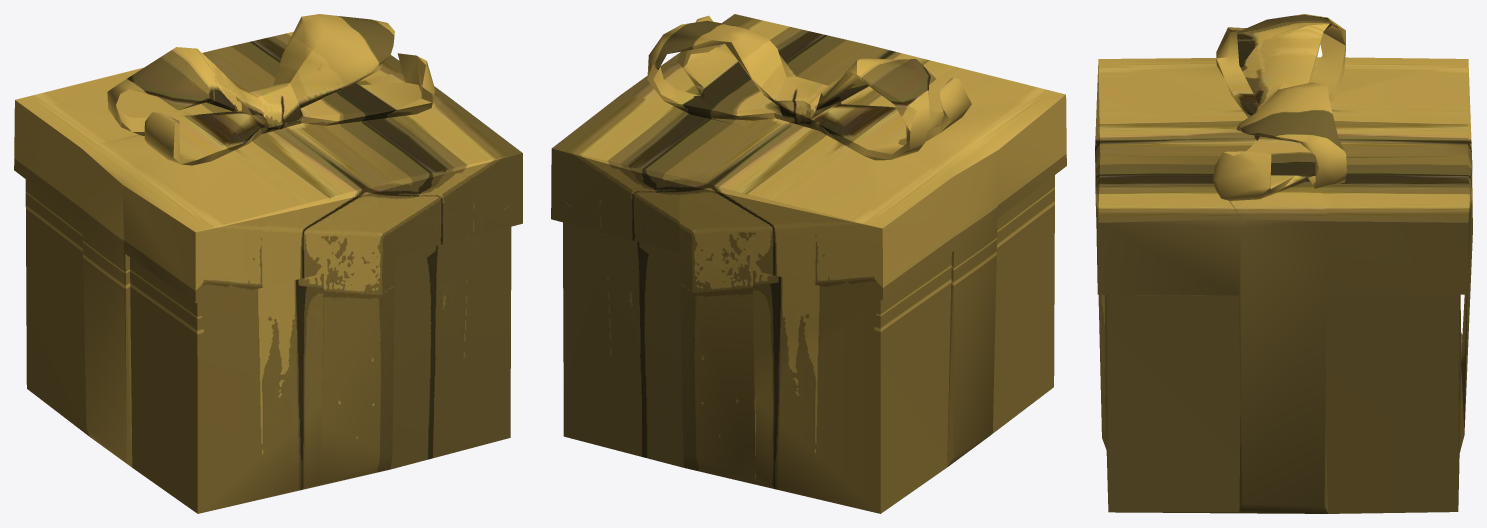
3 renders of one model, left to right at view 1: azimuth 30°, elevation 25°; view 2: azimuth 150°, elevation 25°; view 3: azimuth 270°, elevation 25°, orthographic. The views are drawn at different scales.
Parts seen in each view (by area): view 1: Decor_gift_box_display_c_gold; view 2: Decor_gift_box_display_c_gold; view 3: Decor_gift_box_display_c_gold.
Boxes of the visible parts, x1,y1,x2,y2 form: Decor_gift_box_display_c_gold: (14,14,522,513); Decor_gift_box_display_c_gold: (551,14,1066,513); Decor_gift_box_display_c_gold: (1095,14,1472,513).
Size of the model in its own units: 1.12 by 1.2 by 1.08.
Materials: 1 (1 with a texture image).
